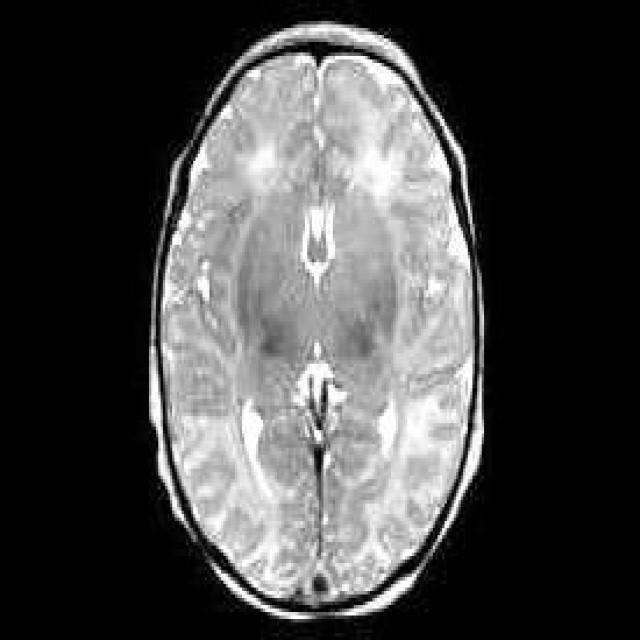notumor: (147, 21, 489, 623)
